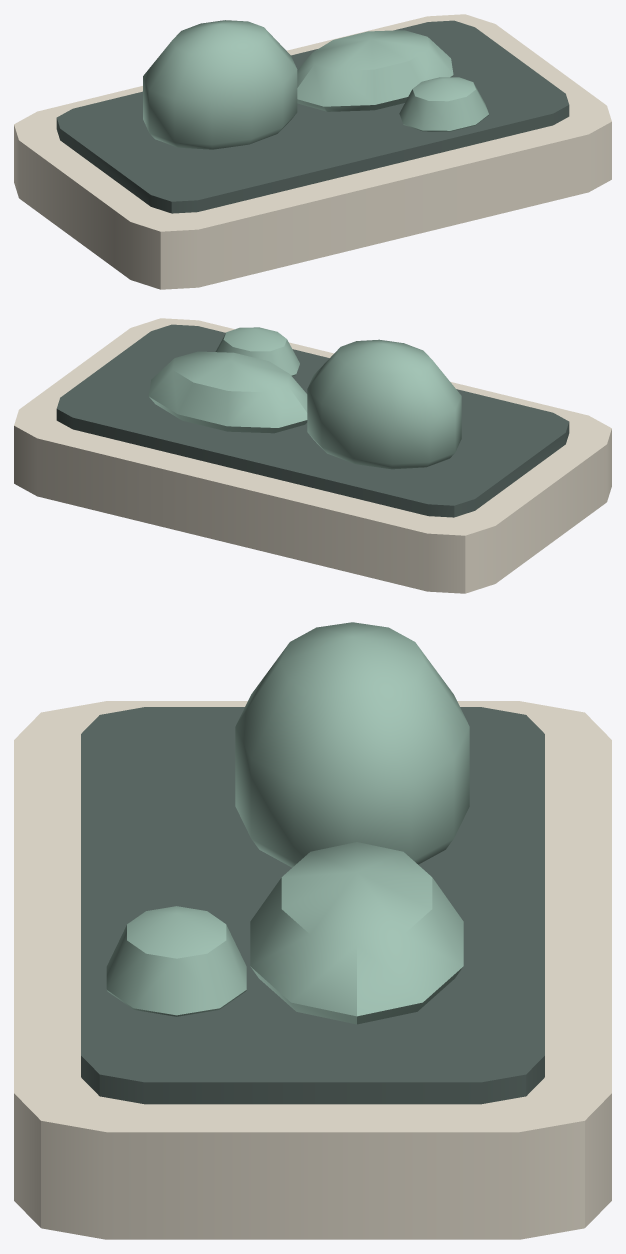
File: zen-gravel-tray.glb
3 views of the same model, one above another, from view 1: azimuth 30°, elevation 25°; view 2: azimuth 150°, elevation 25°; view 3: azimuth 270°, elevation 25° (orthographic). The views are drawn at different scales.
Parts seen in each view (by area): view 1: zen-gravel-tray; view 2: zen-gravel-tray; view 3: zen-gravel-tray.
Part boxes in pixels (x1,y1,x2,y2): zen-gravel-tray: (14,14,611,289); zen-gravel-tray: (14,318,611,593); zen-gravel-tray: (14,622,611,1239).
Bounding box in the file's own units: 4.64 × 1.57 × 2.72.
1 material, 1 textured.
